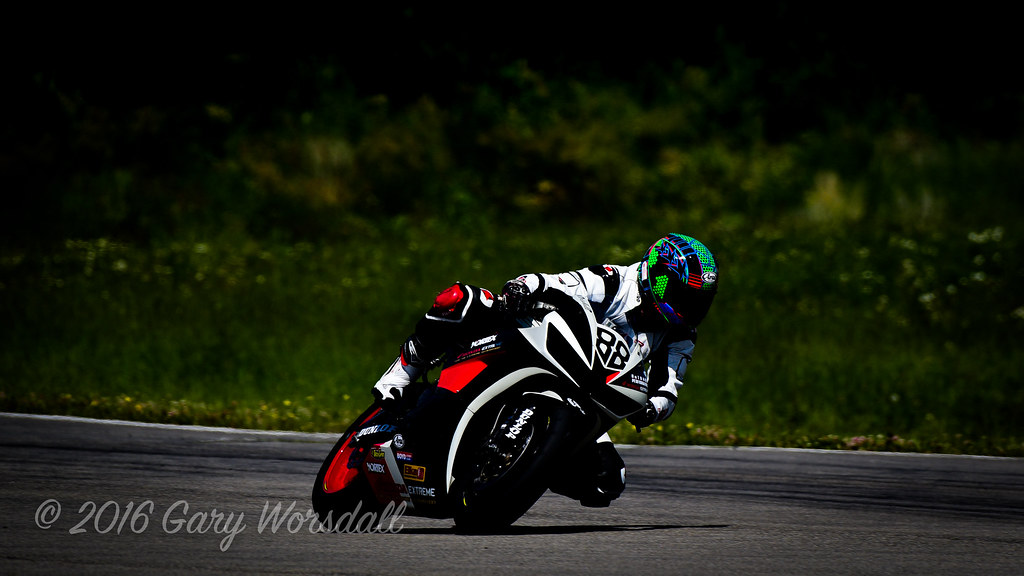helmet: (642, 232, 724, 344)
